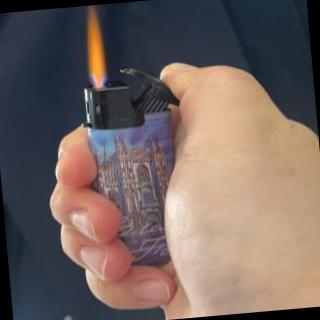fire: (82, 4, 112, 82)
